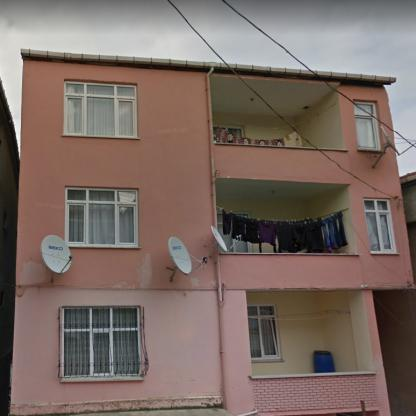window: (66, 308, 140, 376), (66, 188, 136, 244), (65, 84, 134, 135), (248, 306, 278, 357), (365, 200, 393, 251), (353, 102, 381, 149)
